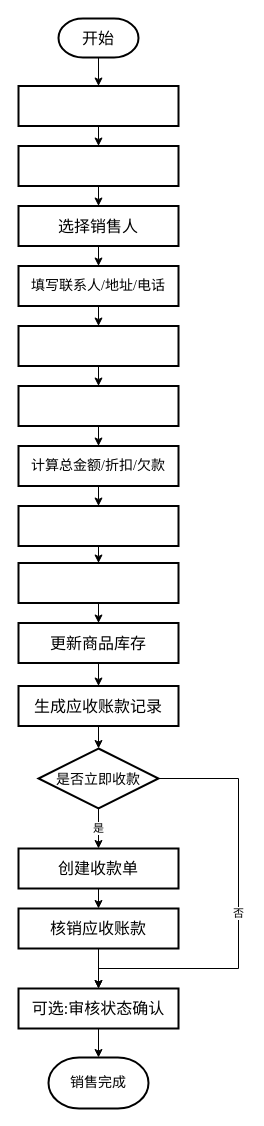
This 264x1126 diagram has some shape labels left out. The shapes that lost their labels are listed below. From the top down, each one's centre as x and y in pixels, then its label:
point 98,105: 创建销货单
point 98,165: 选择客户
point 98,345: 添加商品明细
point 98,405: 设置单价/数量/优惠率
point 98,525: 保存销货单
point 98,583: 写入出/入库记录
